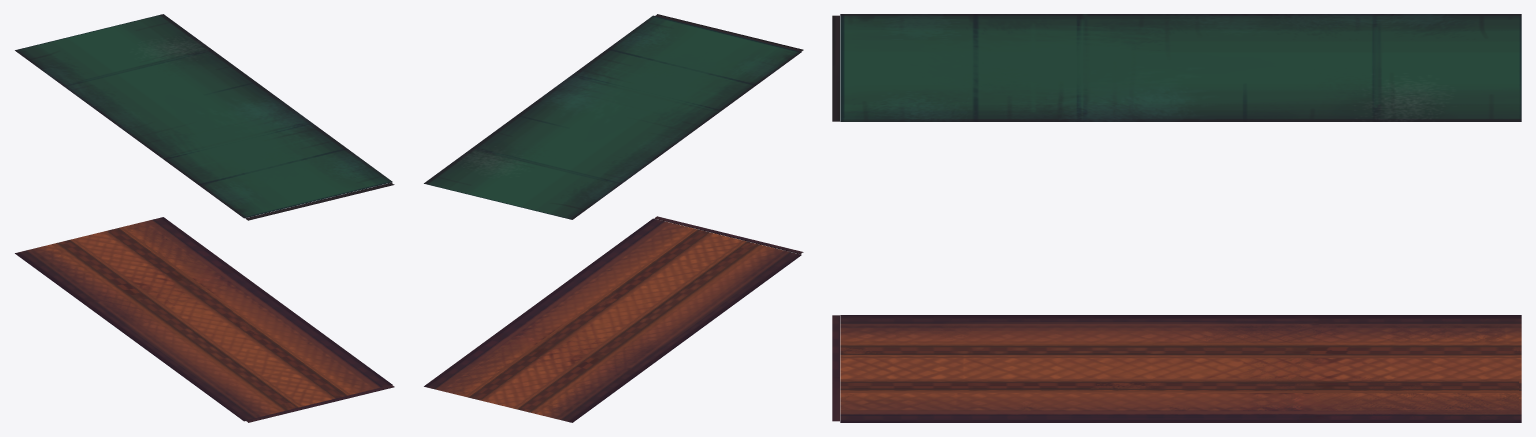
File: floor_4.obj
3 renders of one model, left to right at view 1: azimuth 30°, elevation 25°; view 2: azimuth 150°, elevation 25°; view 3: azimuth 270°, elevation 25°, orthographic. The views are drawn at different scales.
Visible parts, largest first — view 1: floor_4; view 2: floor_4; view 3: floor_4.
Part boxes in pixels (box(x1,y1,x2,y2)): floor_4: box(15, 14, 394, 422); floor_4: box(424, 14, 803, 422); floor_4: box(832, 14, 1521, 422).
Bounding box in the file's own units: 183 × 238 × 493.
